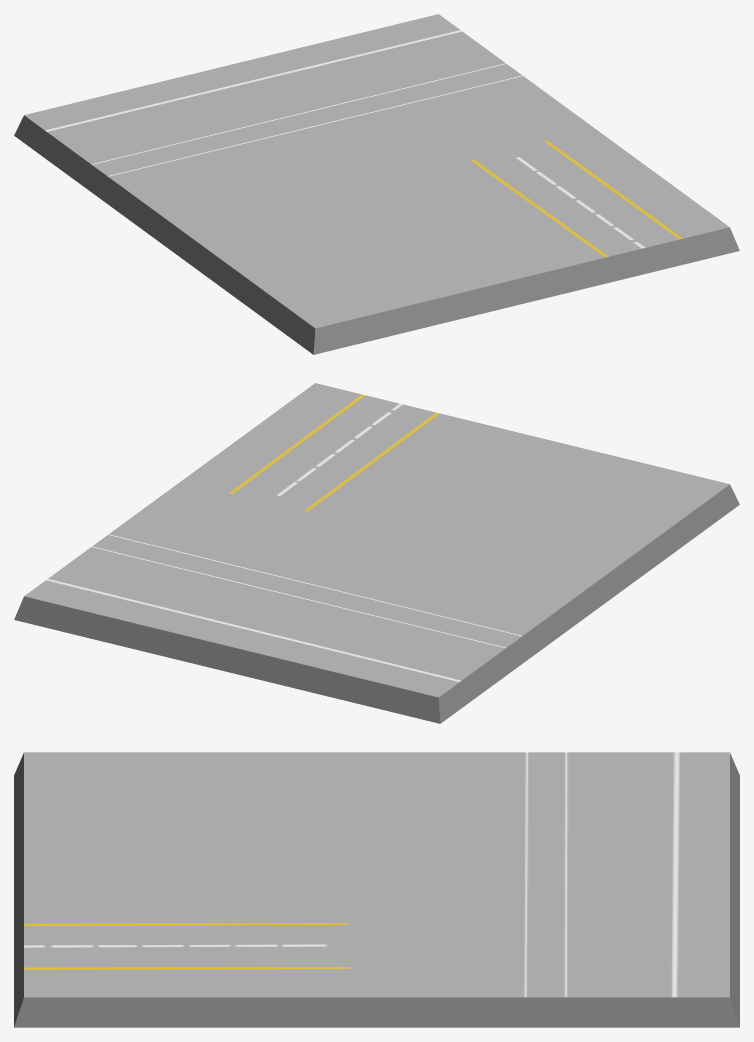
File: 스테이지.fbx
The picture shows the model from 3 angles, top to bottom: view 1: azimuth 30°, elevation 25°; view 2: azimuth 150°, elevation 25°; view 3: azimuth 270°, elevation 25°; orthographic projection. The views are drawn at different scales.
Parts seen in each view (by area): view 1: Box217; view 2: Box217; view 3: Box217.
Boxes of the visible parts, x1,y1,x2,y2 form: Box217: (14,14,739,354); Box217: (14,383,739,723); Box217: (14,752,739,1027).
Size of the model in its own units: 2129 by 2591 by 105.
1 material, 1 textured.
